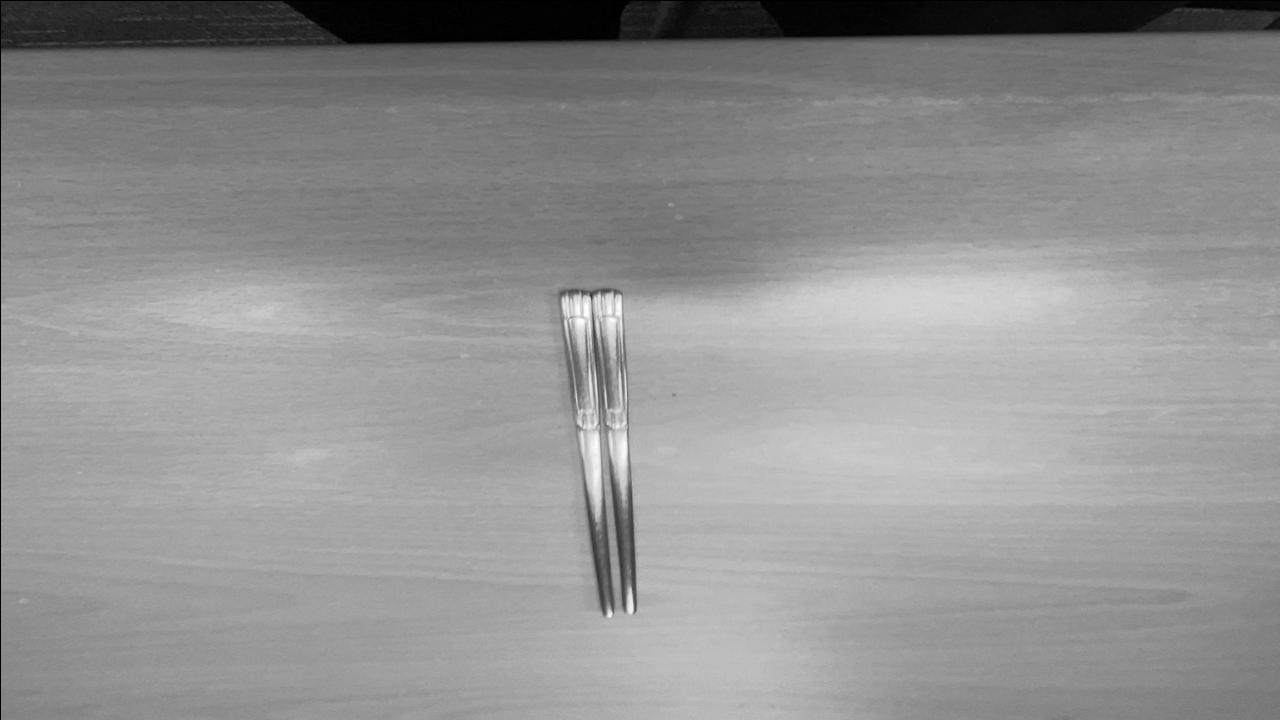chopstick: (554, 288, 647, 619)
